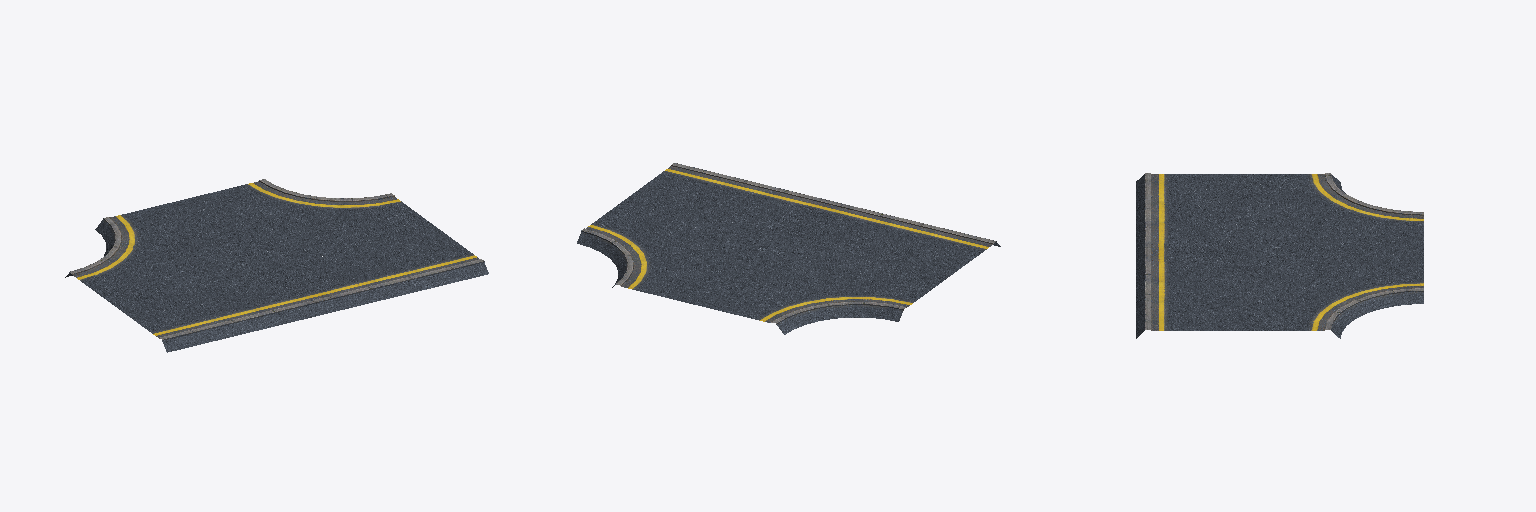
The picture shows the model from 3 angles: view 1: azimuth 30°, elevation 25°; view 2: azimuth 150°, elevation 25°; view 3: azimuth 270°, elevation 25°; orthographic projection.
Size of the model in its own units: 16 by 0.4482 by 12.4.
2 materials, 1 textured.